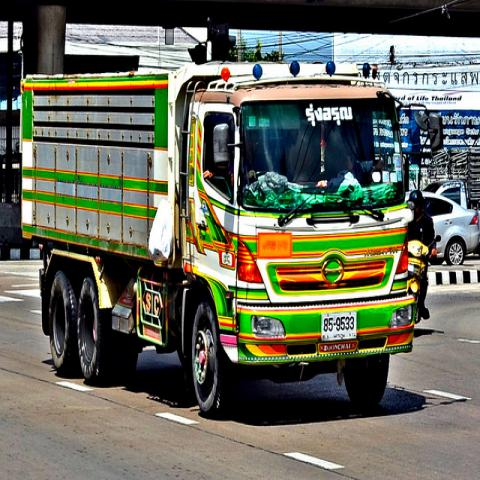car: (406, 192, 480, 266)
motorcycle: (408, 234, 442, 323)
truck: (20, 61, 418, 422)
